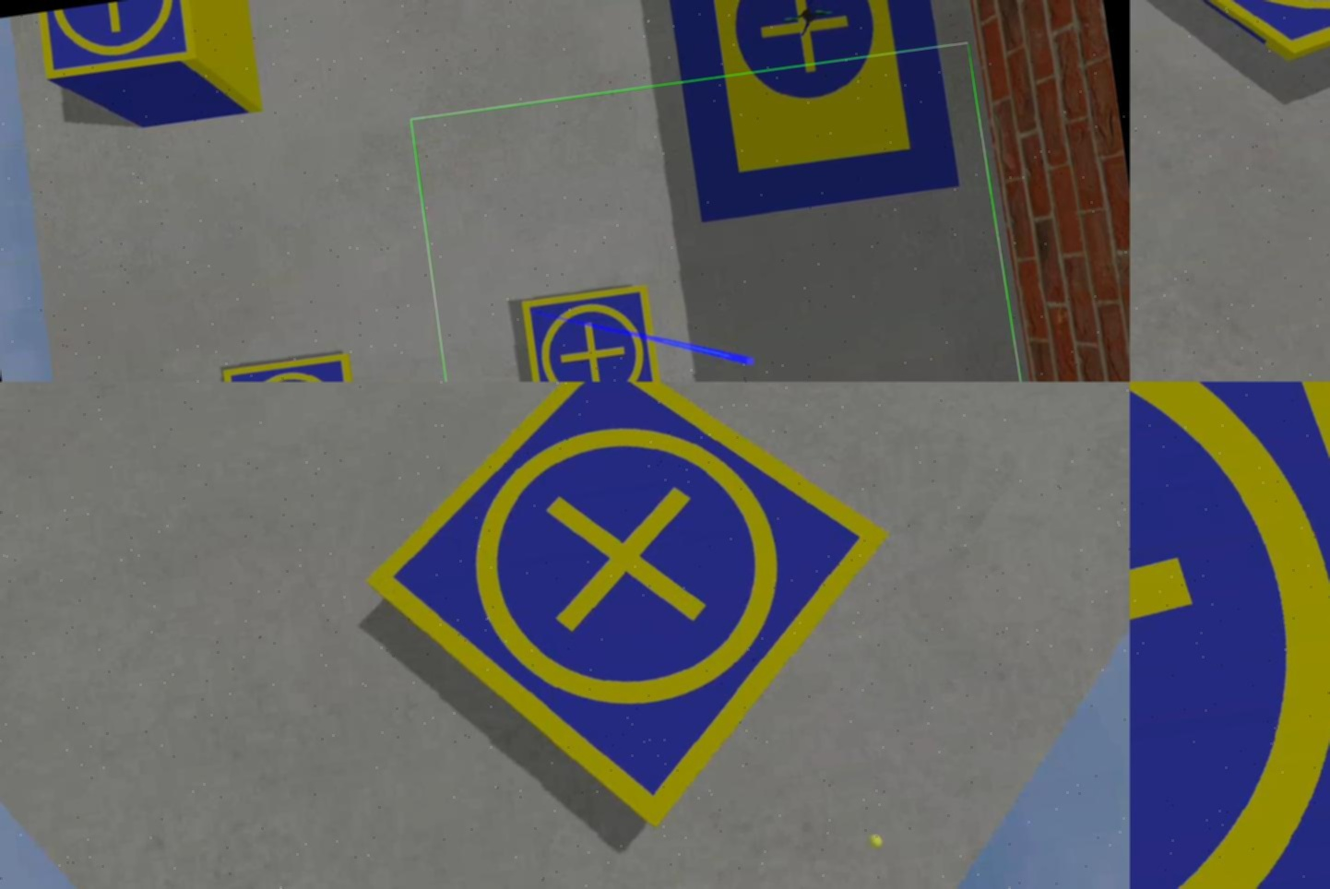large_base: (657, 1, 964, 229)
small_base: (336, 382, 933, 860), (1130, 382, 1330, 889), (1130, 1, 1330, 86), (517, 280, 666, 382), (34, 1, 196, 85)
